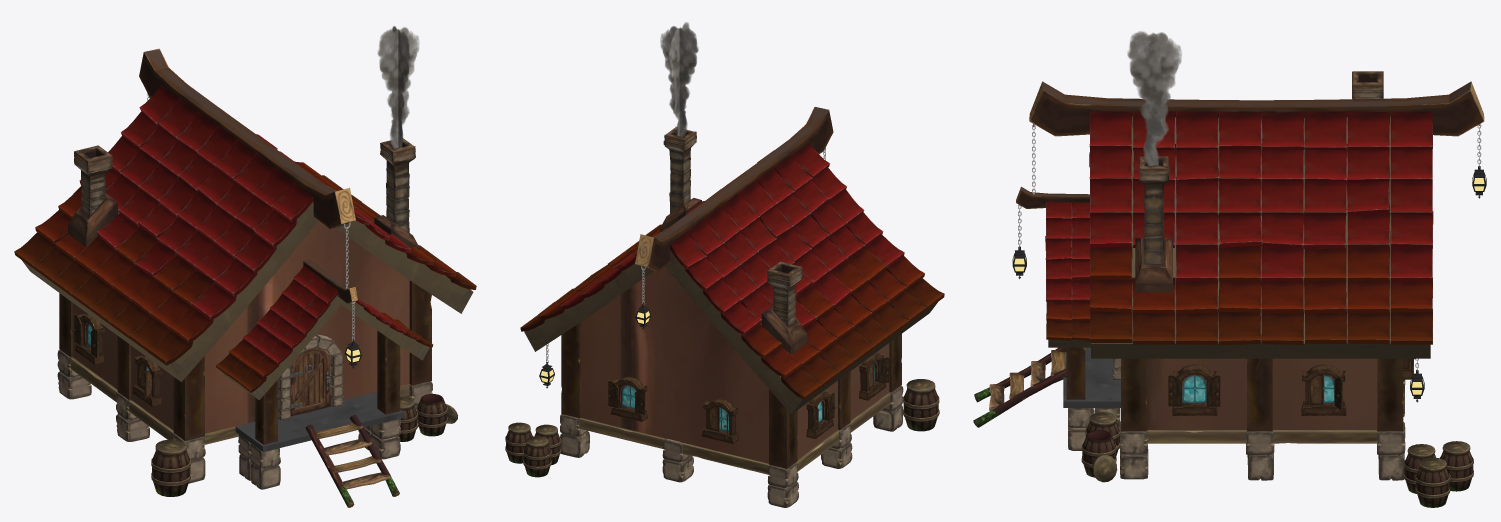
Rendered from cabin.glb.
The picture shows the model from 3 angles, left to right: view 1: azimuth 30°, elevation 25°; view 2: azimuth 150°, elevation 25°; view 3: azimuth 270°, elevation 25°; orthographic projection. The views are drawn at different scales.
Visible parts, largest first — view 1: cabin; view 2: cabin; view 3: cabin.
Boxes of the visible parts, x1,y1,x2,y2 form: cabin: (14,26,476,507); cabin: (505,22,944,507); cabin: (973,31,1486,507).
Size of the model in its own units: 9.76 by 11.33 by 11.79.
Materials: 19 (16 with a texture image).
